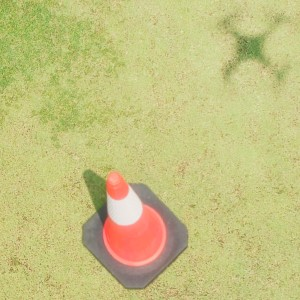traffic cone: (82, 172, 188, 289)
